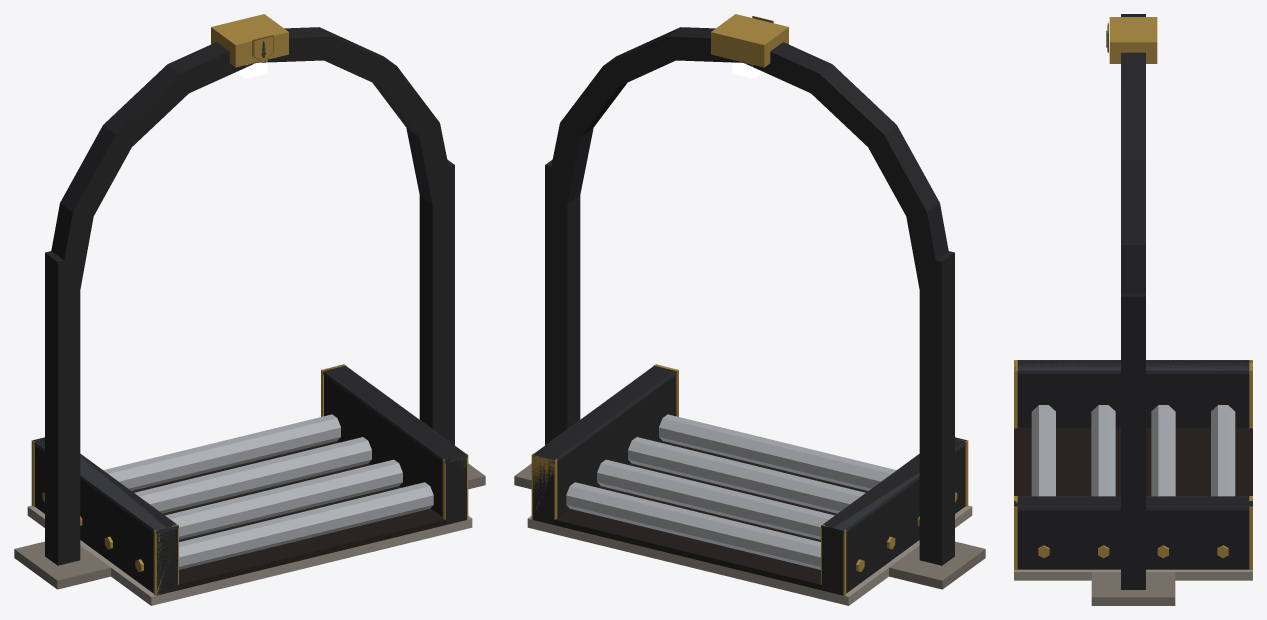
Rendered from WoodDetector.glb.
3 views of the same model, side by side, from view 1: azimuth 30°, elevation 25°; view 2: azimuth 150°, elevation 25°; view 3: azimuth 270°, elevation 25° (orthographic). The views are drawn at different scales.
Visible parts, largest first — view 1: Body, Rollers, Belt; view 2: Body, Rollers, Belt; view 3: Body, Rollers, Belt.
Boxes of the visible parts, bbox=[...] form: Body: bbox=[14, 14, 485, 605]; Rollers: bbox=[42, 414, 433, 571]; Belt: bbox=[132, 440, 445, 590]; Body: bbox=[514, 14, 985, 605]; Rollers: bbox=[566, 414, 957, 571]; Belt: bbox=[554, 440, 867, 590]; Body: bbox=[1014, 14, 1252, 605]; Rollers: bbox=[1031, 405, 1235, 558]; Belt: bbox=[1014, 427, 1252, 496].
Bounding box in the file's own units: 8 × 8.81 × 4.
